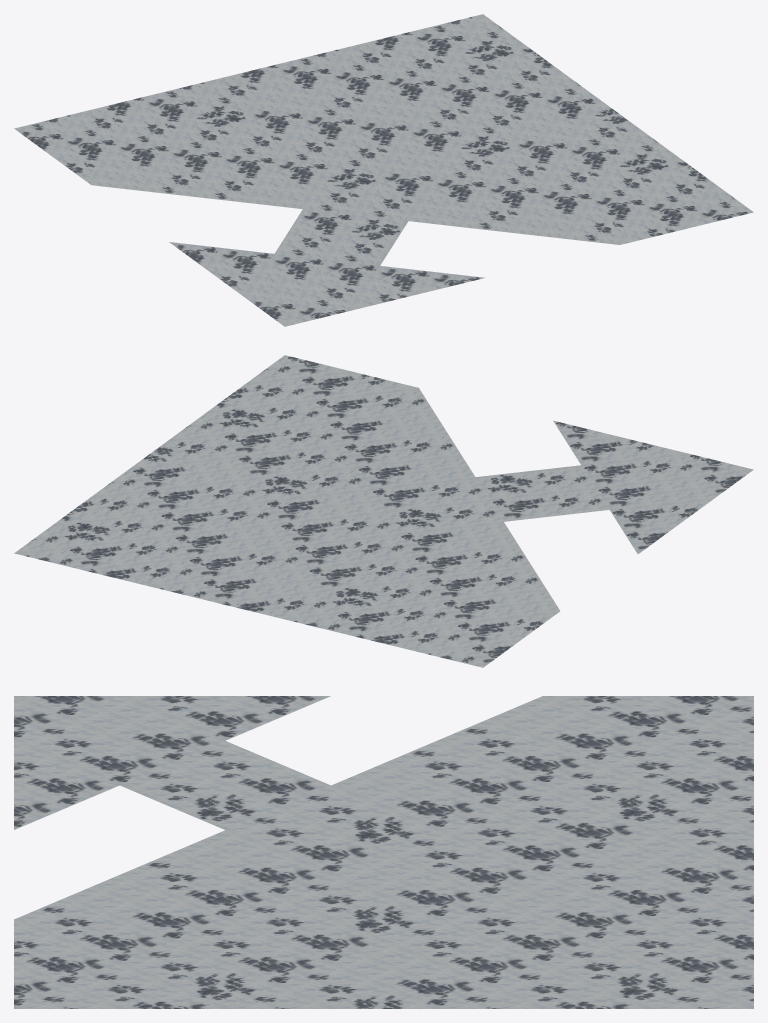
Rendered from oTerrainGroundMap03B.FBX.
The picture shows the model from 3 angles, top to bottom: view 1: azimuth 30°, elevation 25°; view 2: azimuth 150°, elevation 25°; view 3: azimuth 270°, elevation 25°; orthographic projection. The views are drawn at different scales.
Visible parts, largest first — view 1: oTerrainGroundMap03B; view 2: oTerrainGroundMap03B; view 3: oTerrainGroundMap03B.
Part boxes in pixels (<box>): oTerrainGroundMap03B: <box>14,14,753,326</box>; oTerrainGroundMap03B: <box>14,355,753,667</box>; oTerrainGroundMap03B: <box>14,696,753,1008</box>.
Size of the model in its own units: 658 by 7.63e-06 by 658.
Materials: 1 (1 with a texture image).
